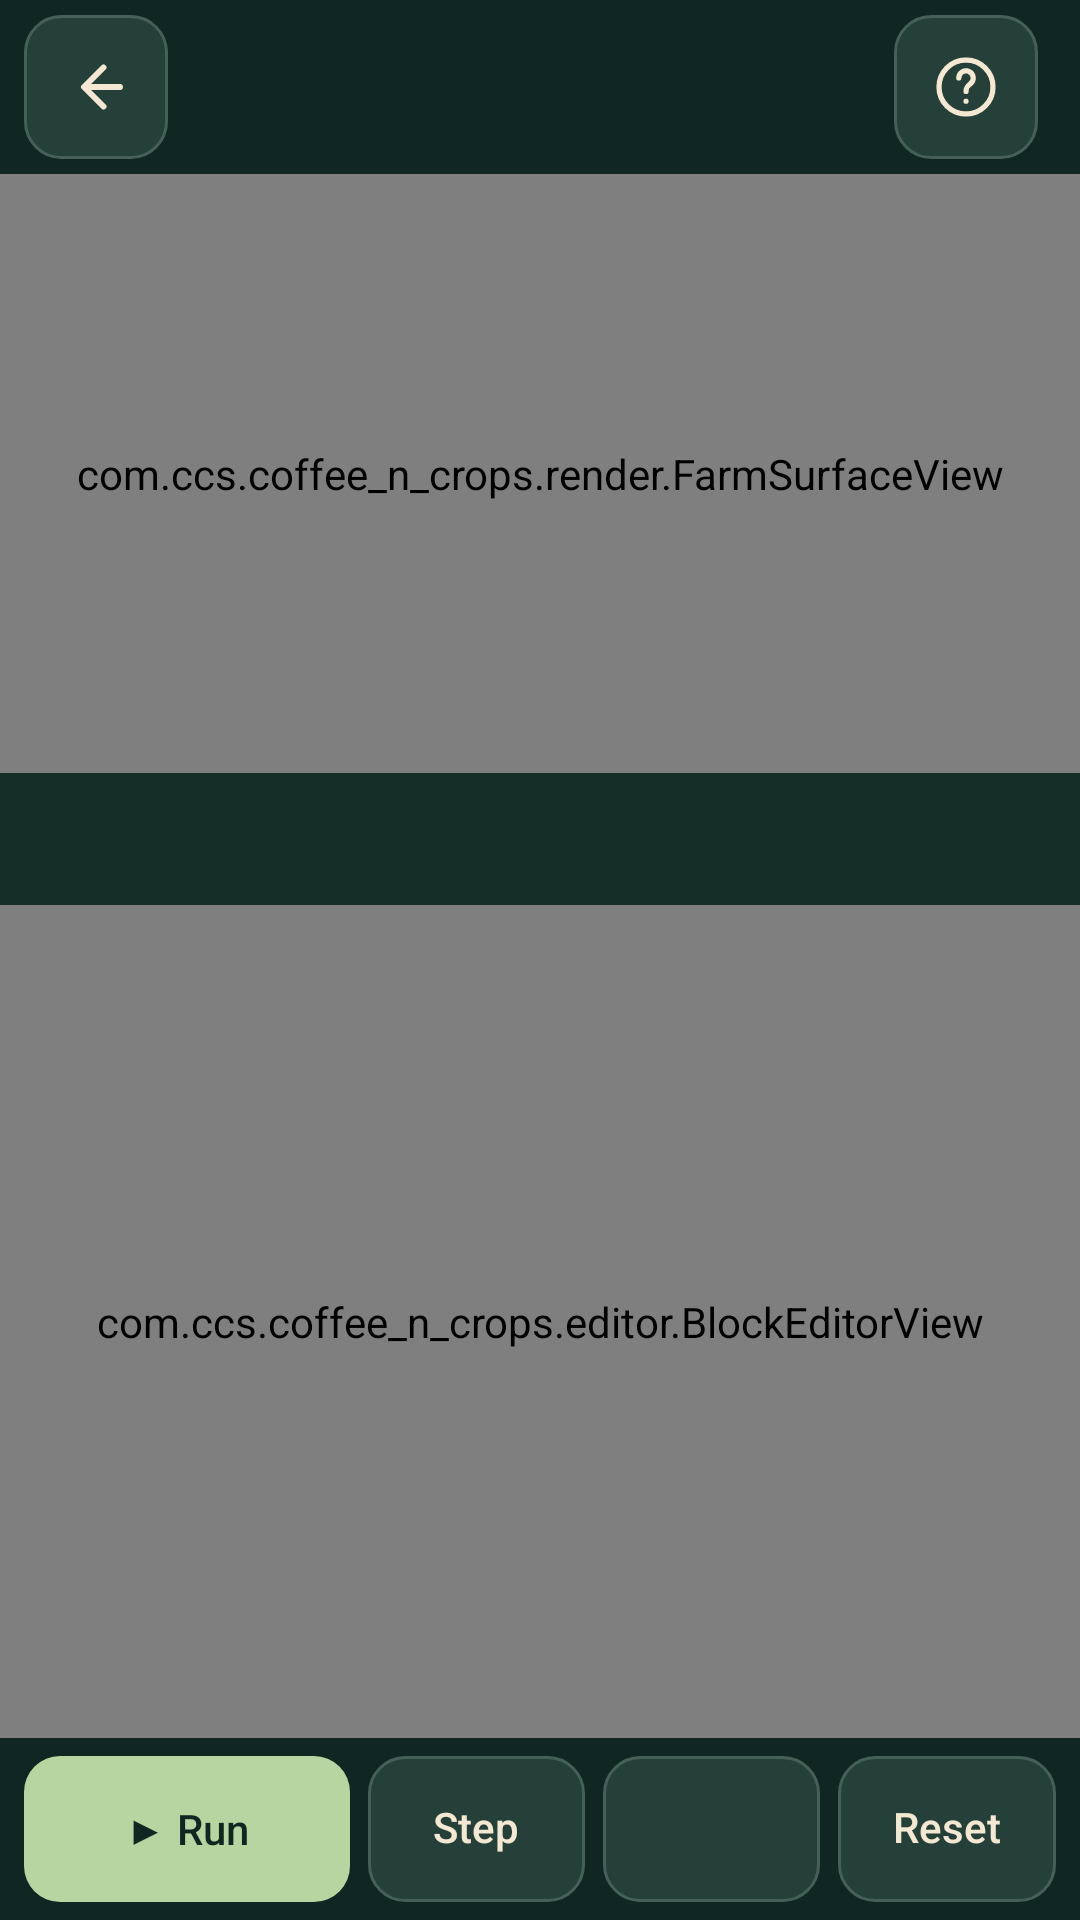

Where to tap for icons on this 1080px×1920px app screen, as (x=x, y=y):
All levels: (x=96, y=87)
Lesson hints: (x=966, y=87)
